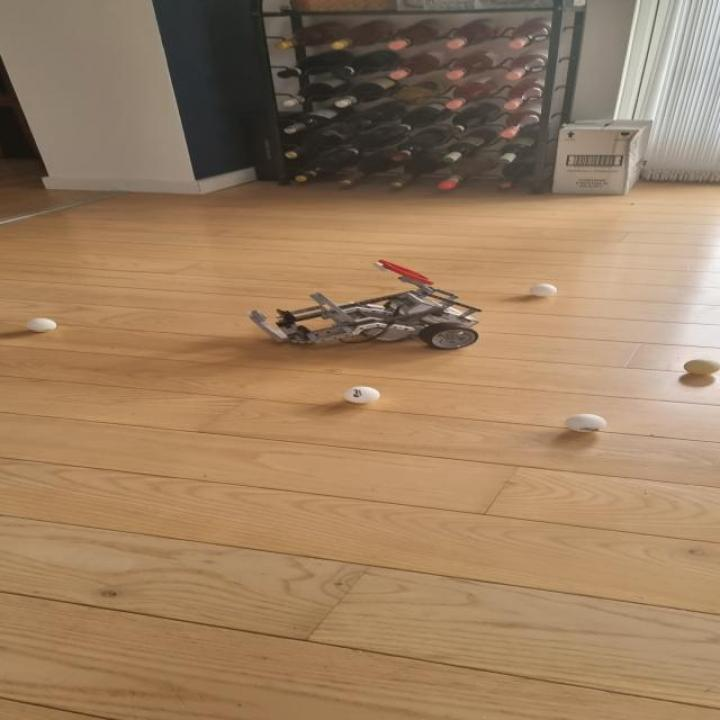robot: (245, 259, 483, 350)
white: (564, 414, 607, 432), (682, 358, 720, 375), (342, 387, 380, 404), (26, 318, 57, 332), (530, 283, 558, 297)
